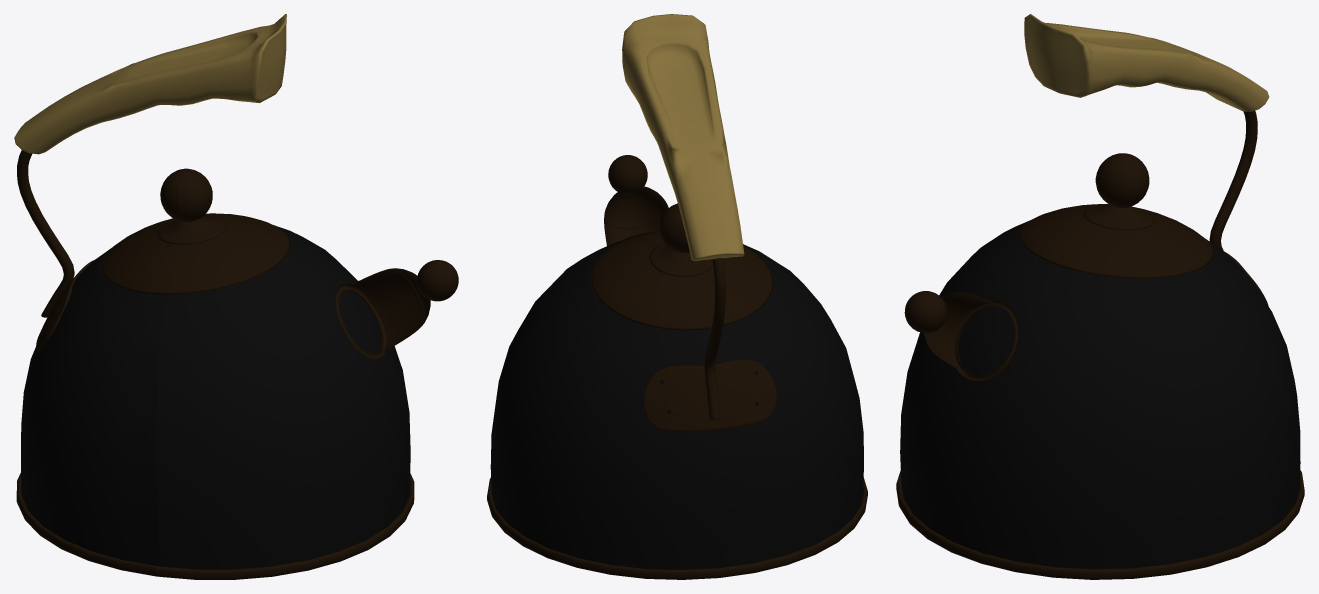
Rendered from kettle.FBX.
The picture shows the model from 3 angles, left to right: view 1: azimuth 30°, elevation 25°; view 2: azimuth 150°, elevation 25°; view 3: azimuth 270°, elevation 25°; orthographic projection. The views are drawn at different scales.
Visible parts, largest first — view 1: Body, Metal, Handle; view 2: Body, Metal, Handle; view 3: Body, Metal, Handle.
Boxes of the visible parts, <box> form: Body: <box>21,225,410,569</box>; Metal: <box>16,150,458,579</box>; Handle: <box>14,14,286,154</box>; Body: <box>490,236,863,569</box>; Metal: <box>487,155,867,579</box>; Handle: <box>622,14,744,260</box>; Body: <box>900,219,1300,569</box>; Metal: <box>896,110,1304,579</box>; Handle: <box>1024,14,1269,111</box>.
Bounding box in the file's own units: 363 × 482 × 363.
